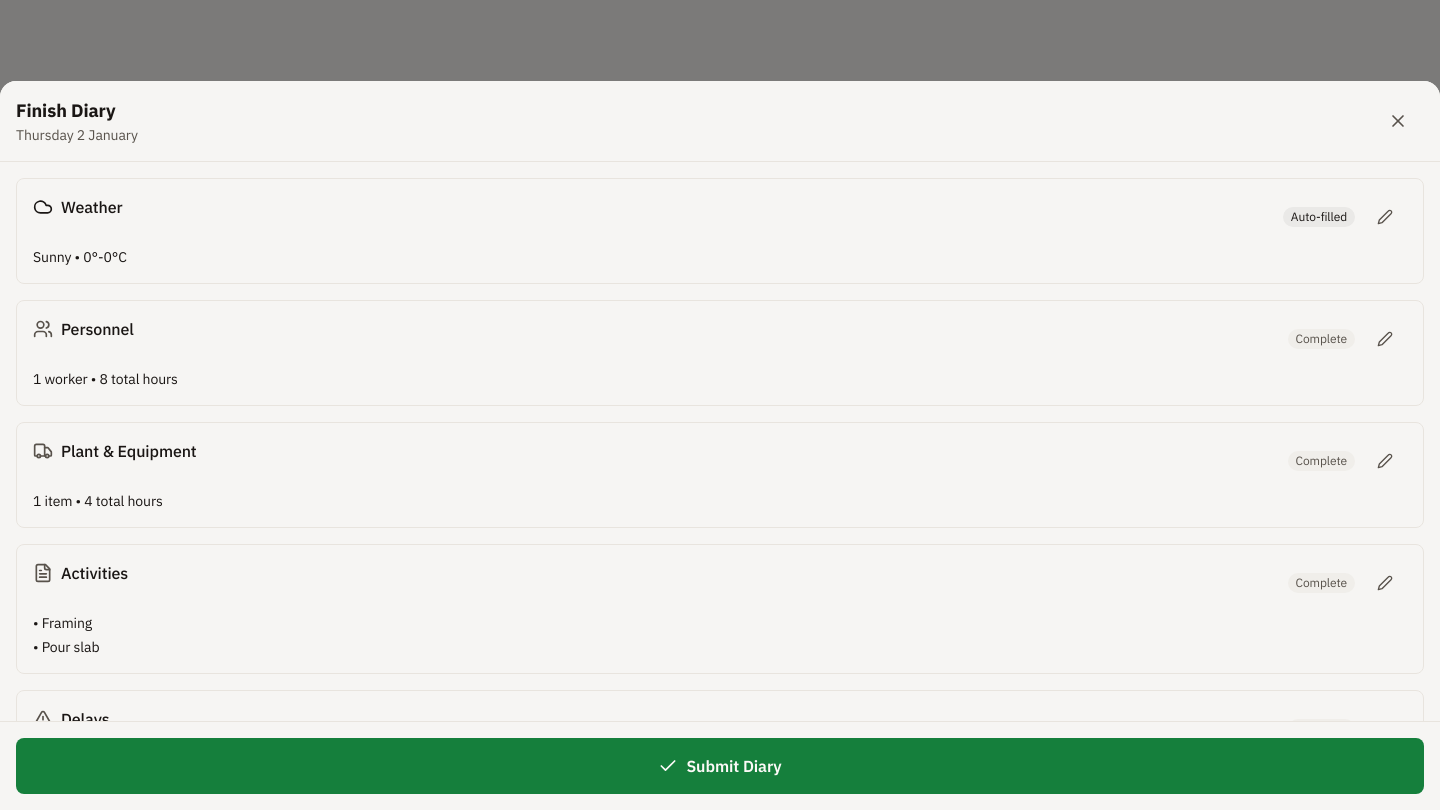
it: DiaryFinishFlow — submit ceremony › renders the success ceremony with counts after online submit
This screenshot has width=1440, height=810.
Click the button "Submit Diary" at point(720, 766), box [16,738,1424,794]
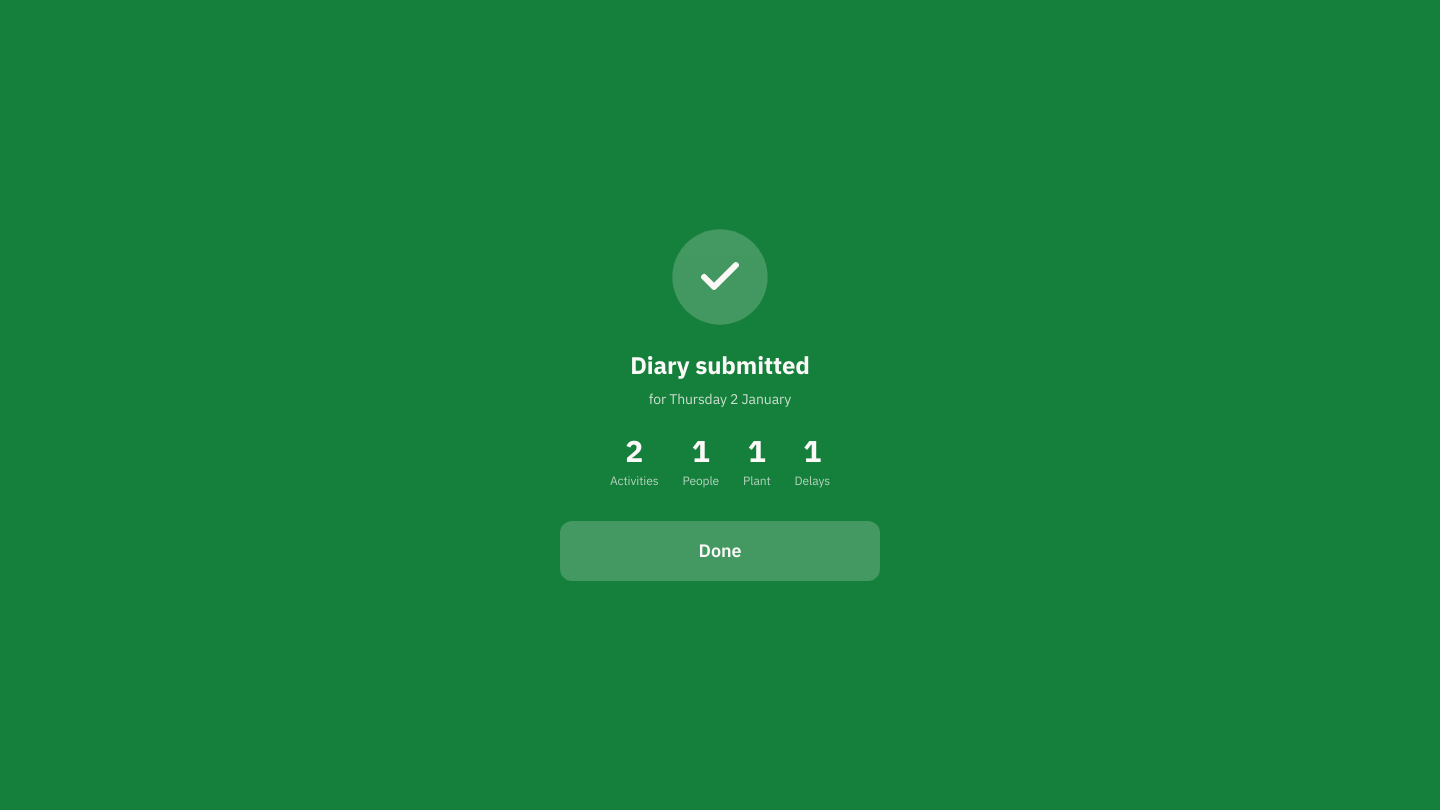
Check: the element with test id "submit-ceremony" is shown
Check: the heading "Diary submitted" is shown, box [630,349,810,381]
Check: the text "2" is shown, box [625,433,643,469]
